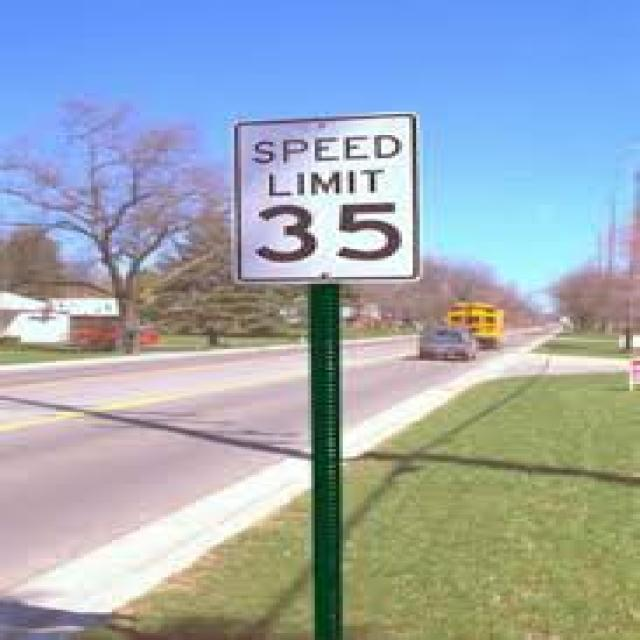speedLimit35: (229, 116, 421, 280)
